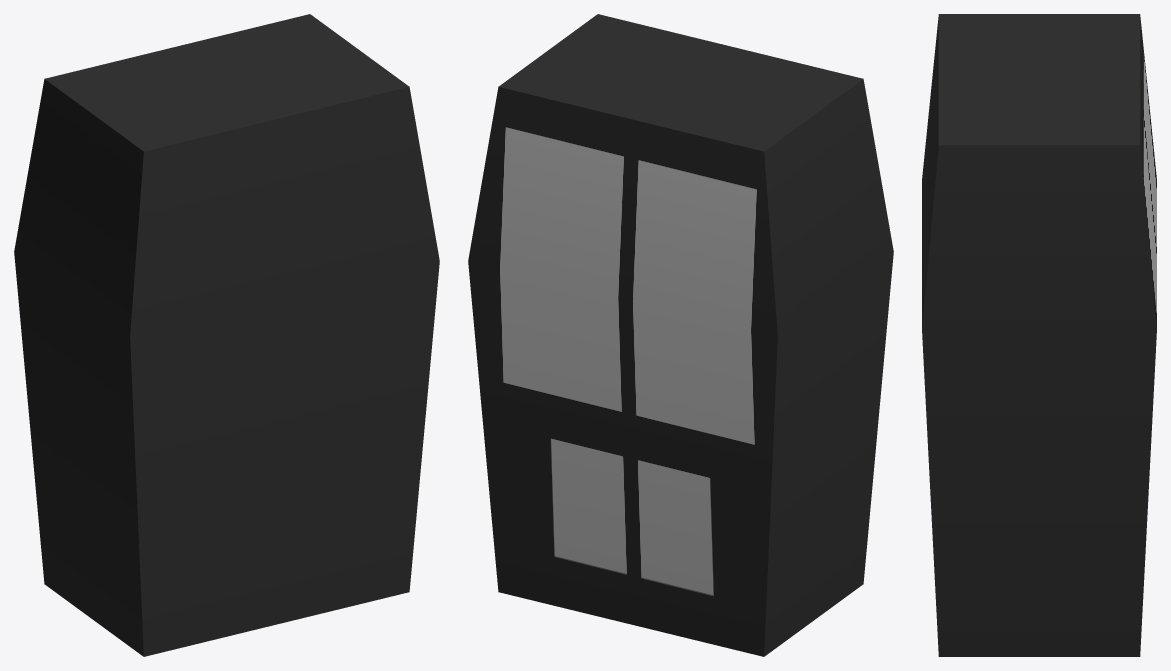
The model's file is Thor_Body.FBX.
The picture shows the model from 3 angles, left to right: view 1: azimuth 30°, elevation 25°; view 2: azimuth 150°, elevation 25°; view 3: azimuth 270°, elevation 25°; orthographic projection.
Parts seen in each view (by area): view 1: Torso; view 2: Torso; view 3: Torso.
Boxes of the visible parts, x1=… form: Torso: x1=14, y1=14, x2=439, y2=656; Torso: x1=468, y1=14, x2=893, y2=656; Torso: x1=922, y1=14, x2=1156, y2=656.
Bounding box in the file's own units: 11.35 × 17.69 × 7.36.
Materials: 1 (1 with a texture image).
